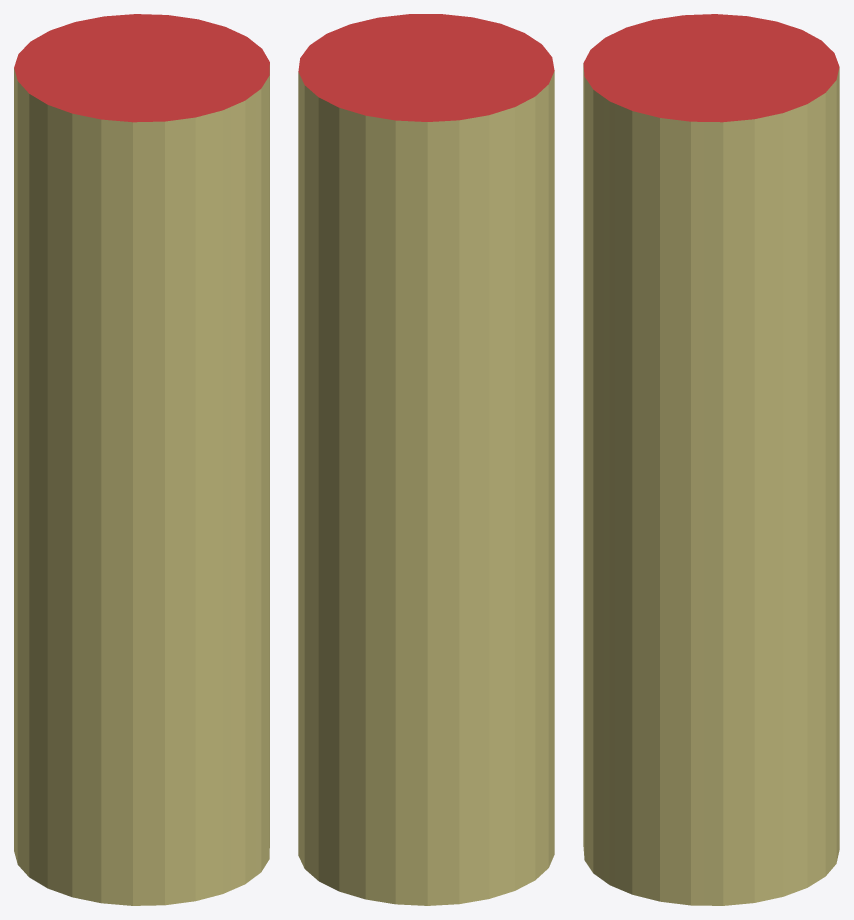
The picture shows the model from 3 angles, left to right: view 1: azimuth 30°, elevation 25°; view 2: azimuth 150°, elevation 25°; view 3: azimuth 270°, elevation 25°; orthographic projection.
Size of the model in its own units: 3.36 by 3.36 by 11.35.
